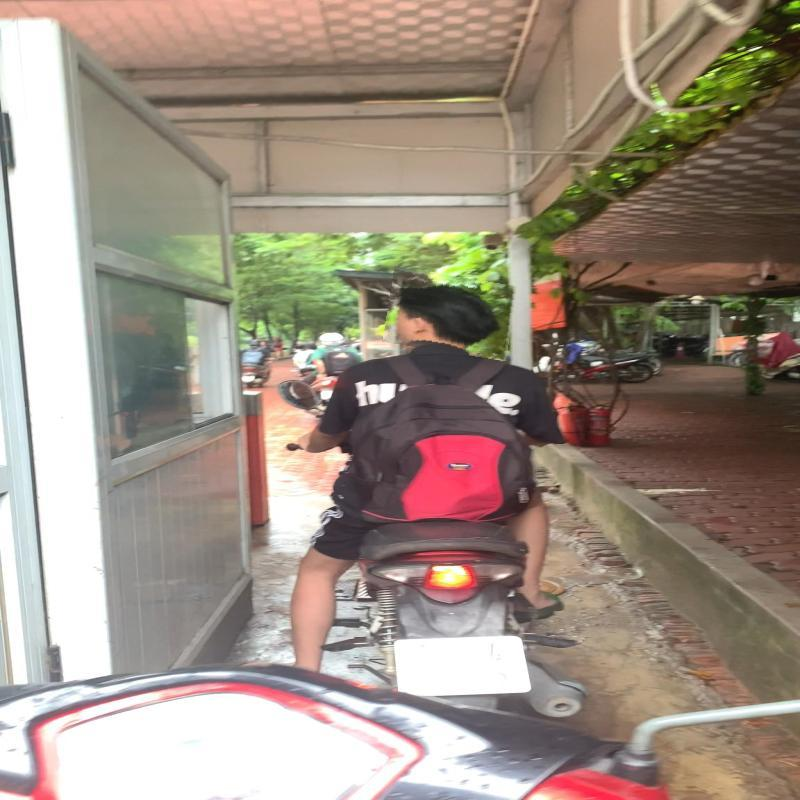nohelmet: (384, 272, 514, 357)
